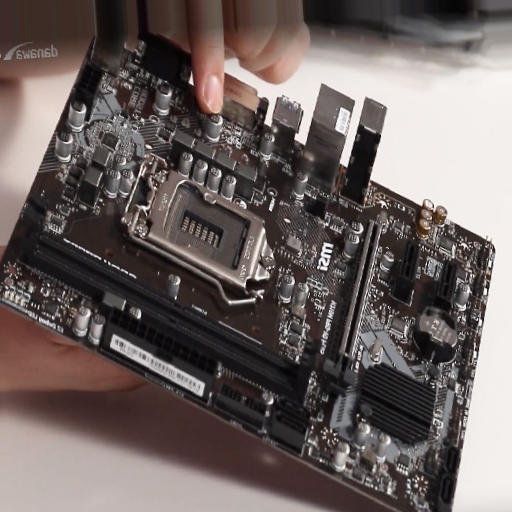CPU: (125, 153, 275, 284)
GPU: (324, 220, 383, 395)
MOTHERBOARD: (3, 37, 499, 509)
RAM: (19, 196, 319, 407)
